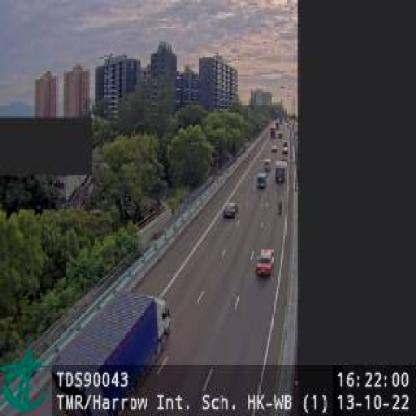Car: (255, 248, 274, 280), (223, 201, 240, 219), (256, 171, 268, 190), (264, 160, 272, 171), (271, 144, 278, 154)
Truck: (46, 291, 176, 399), (274, 160, 288, 183)
